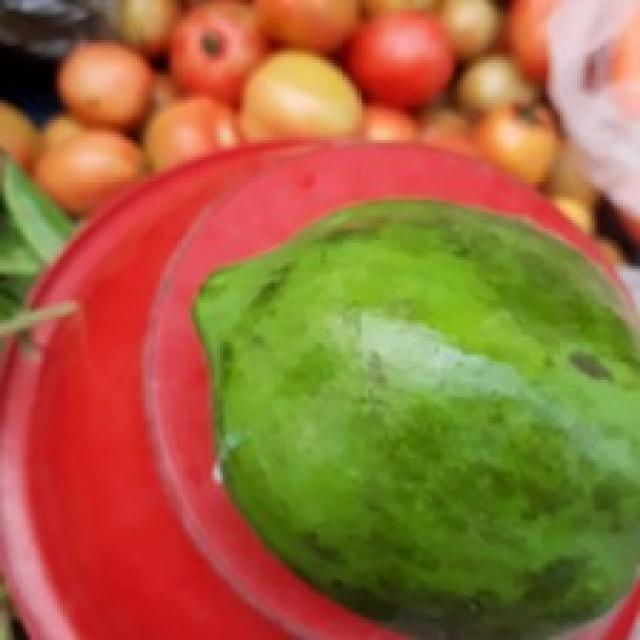Pepaya unrippen: (180, 190, 640, 630)
